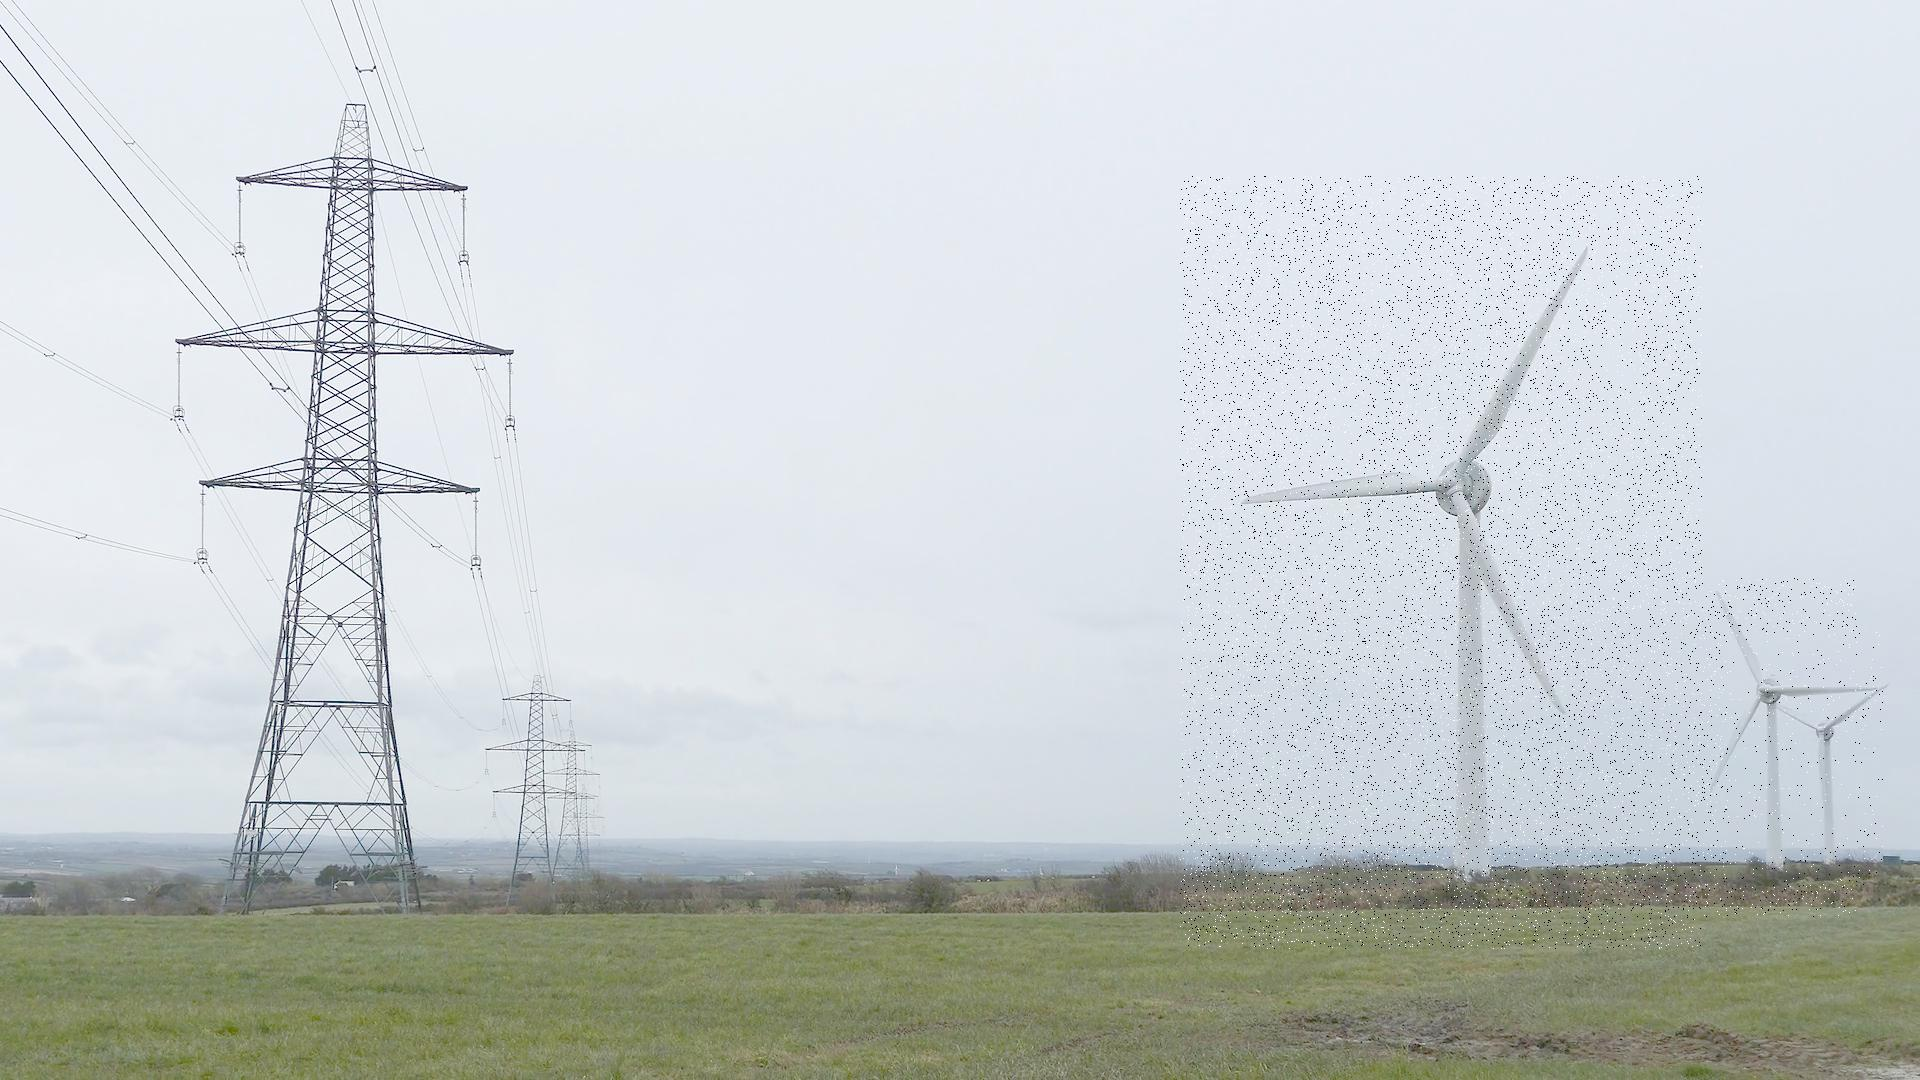cable tower: (170, 102, 525, 922), (483, 673, 585, 905), (545, 727, 600, 885), (564, 786, 603, 876)
turbine: (1180, 175, 1702, 949), (1627, 579, 1857, 918), (1727, 633, 1883, 887)
